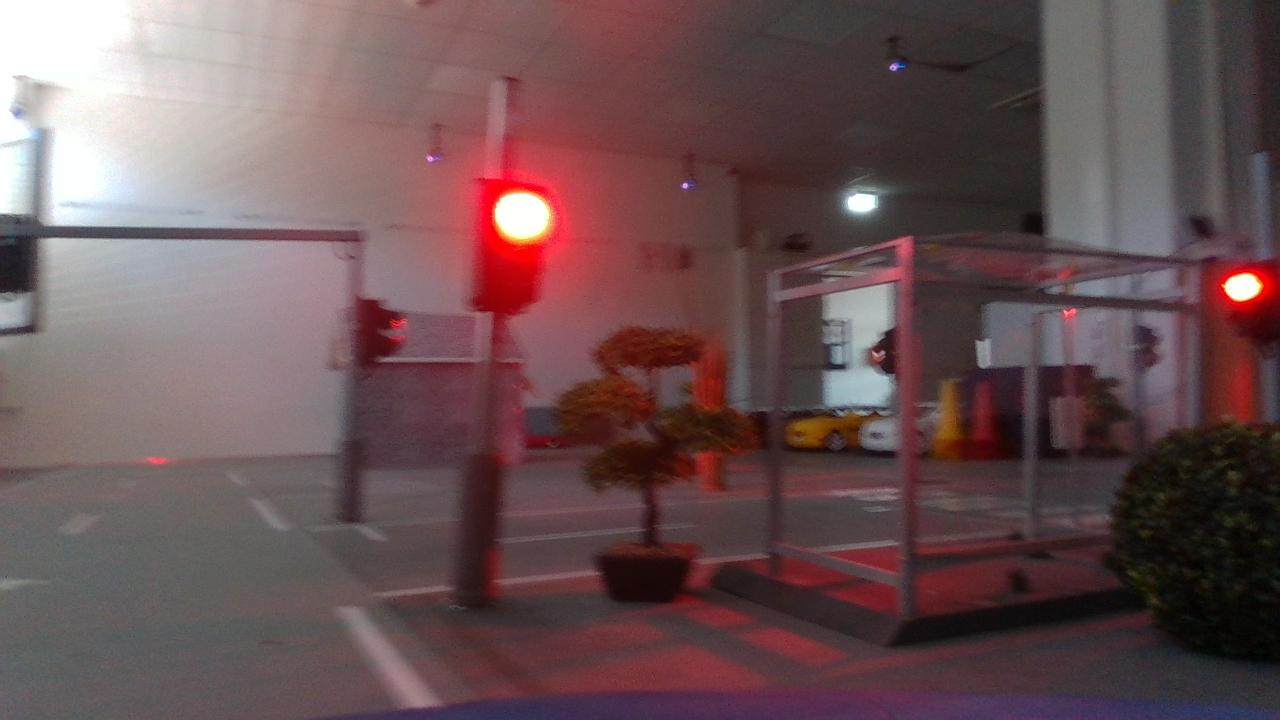traffic_light_red: (436, 155, 581, 338)
